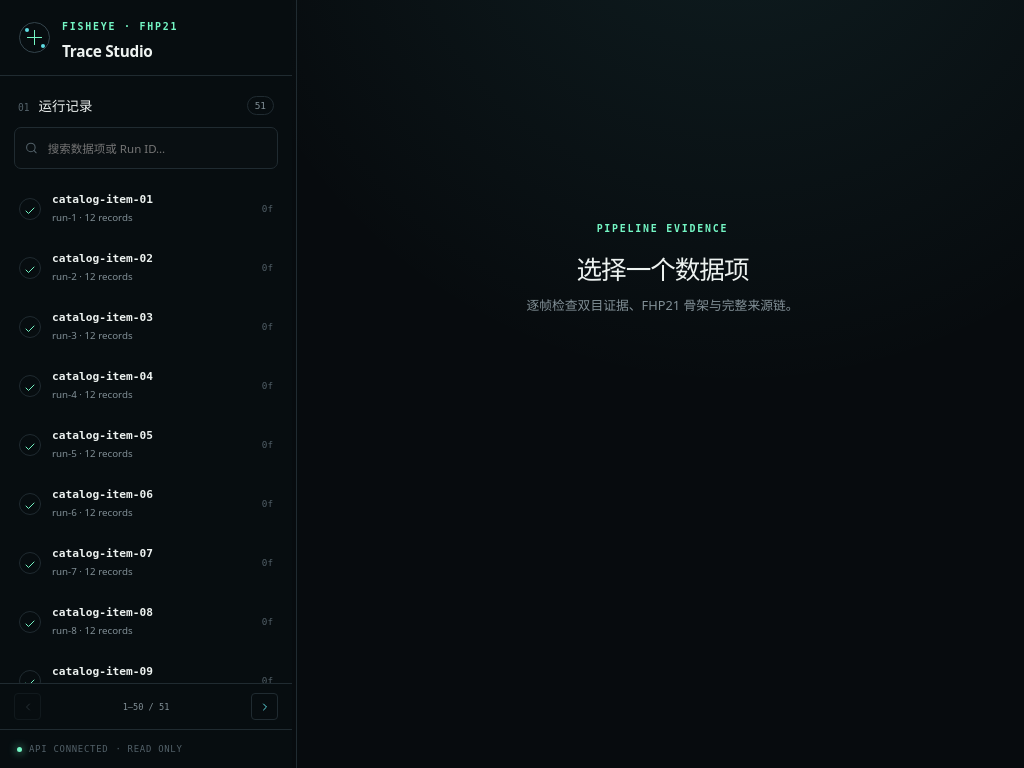
it: the run catalog pages past the first 50 results and opens the 51st run
Expected: the button "catalog-item-01 run-1 · 12 records 0f" is shown, [9, 181, 283, 236]
Expected: the button "catalog-item-51" is not shown
Click the button named "下一页运行".
click(264, 706)  # box [251, 693, 278, 720]
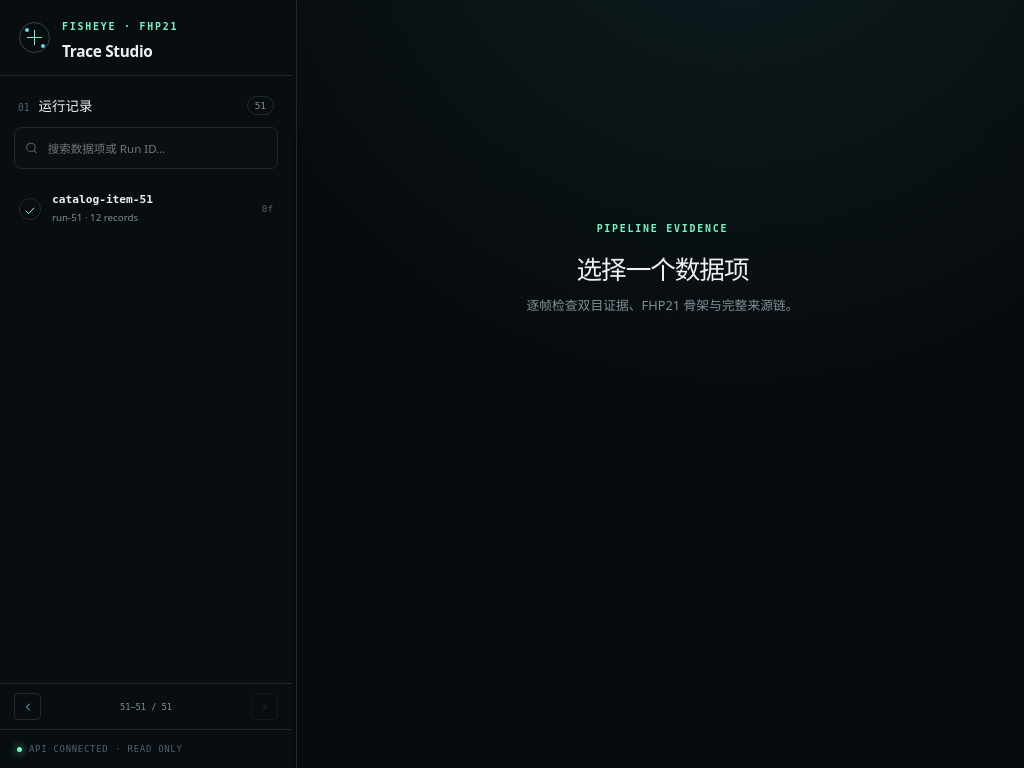
Click the button "catalog-item-51 run-51 · 12 records 0f".
click(146, 208)  # box [9, 181, 283, 236]
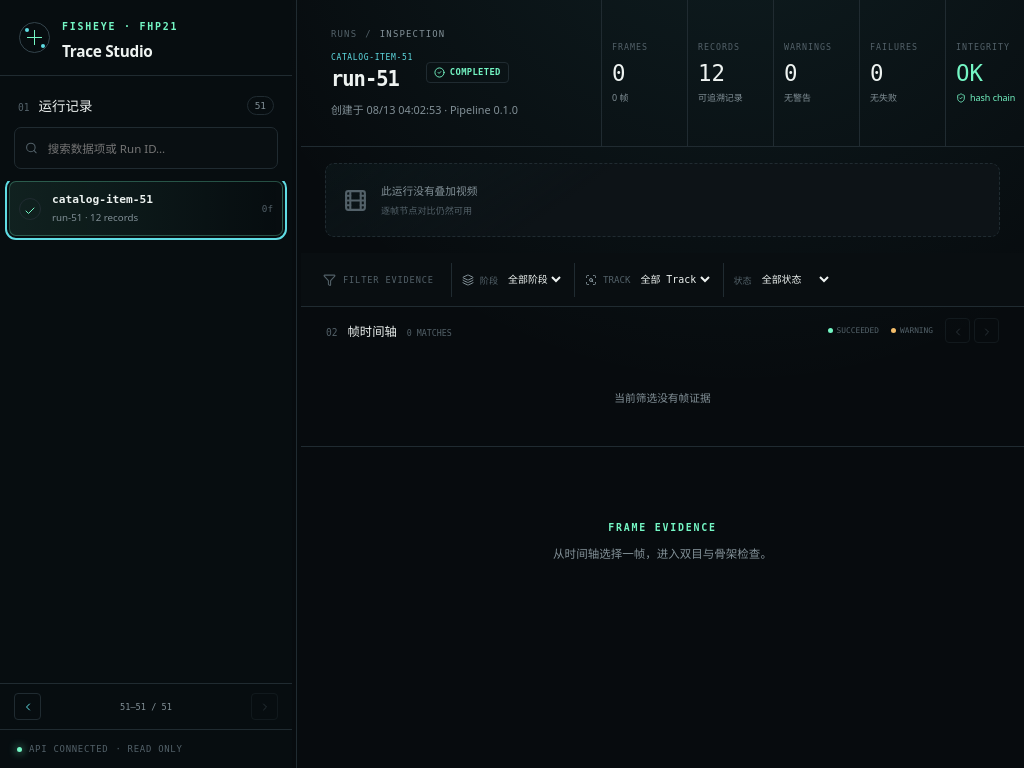
Expected: the text "catalog-item-51" below "RUNS" is shown, [331, 53, 413, 62]
